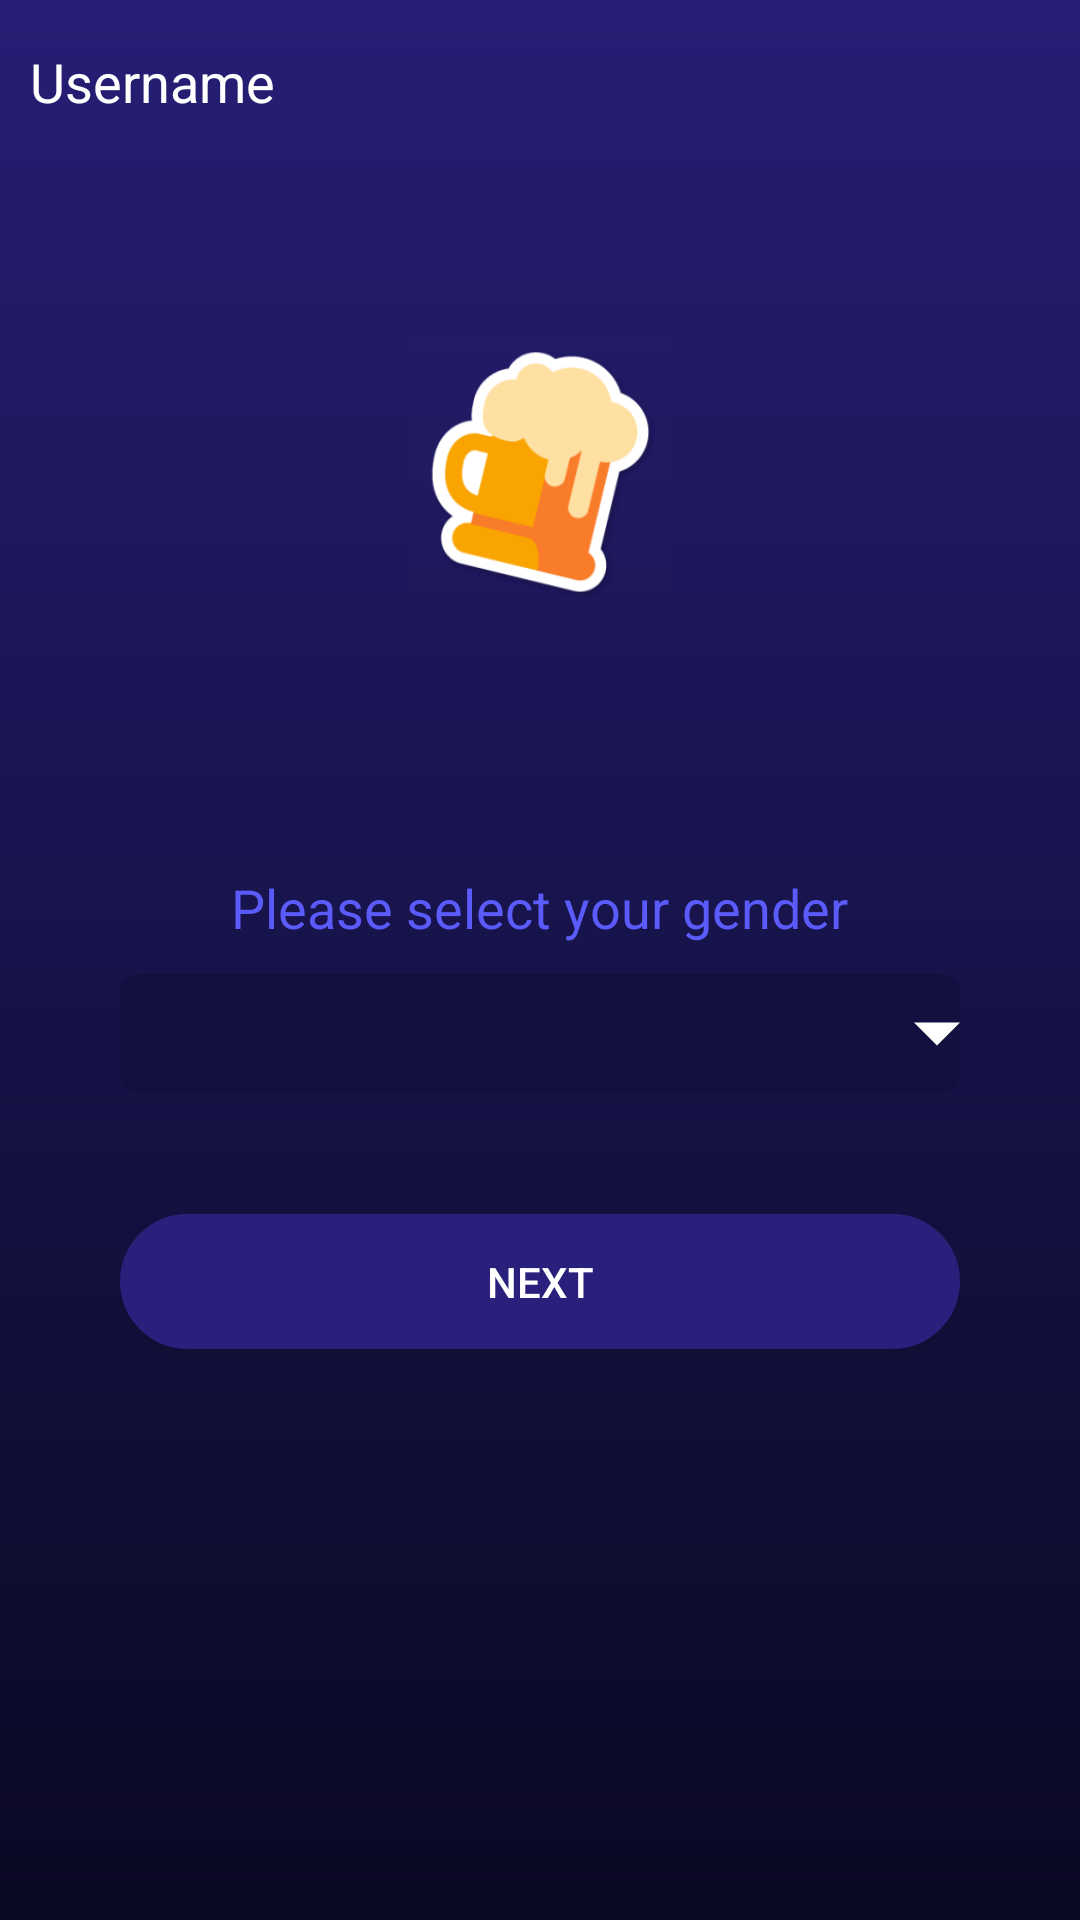

Locate icon controls on the screen. Image size 1080 × 1920, boxes as (x1, y1, x2, y2).
beer: (432, 352, 649, 593)
